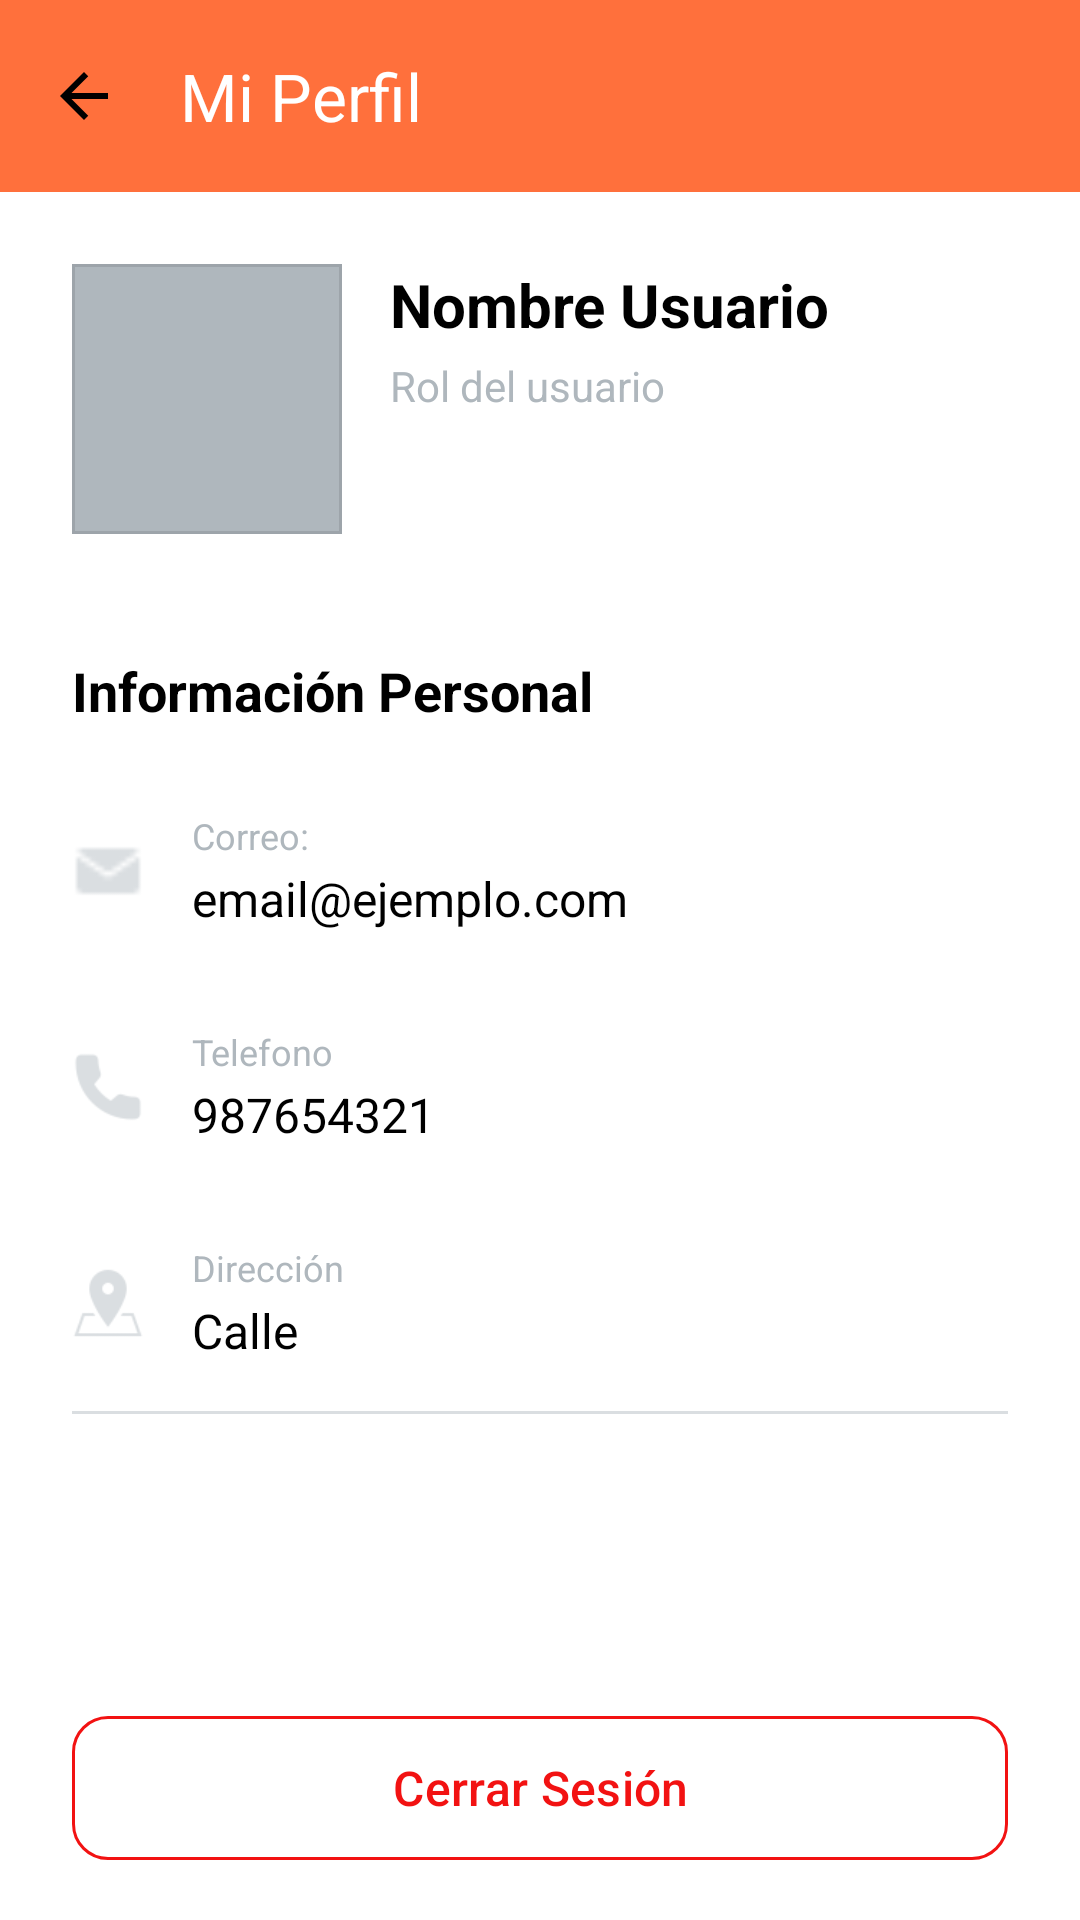

Named icons in this screenshot (1080x1920) and their centers, (x=x, y=y):
direccion: (x=108, y=1303)
sobre: (x=108, y=871)
